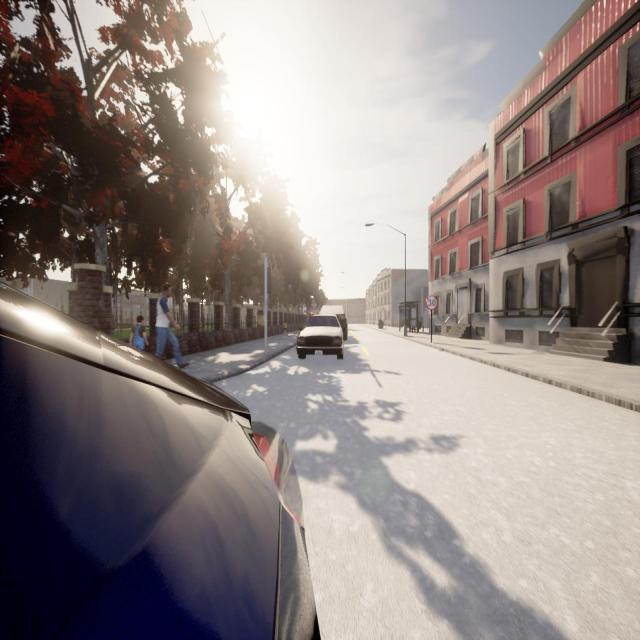Pedestrian: (155, 285, 189, 368), (128, 314, 148, 352), (283, 320, 288, 335)
Traffic_Signs: (426, 296, 437, 310)
Vehicle: (0, 285, 316, 640), (296, 314, 343, 359), (319, 305, 347, 341)
traffic_light: (267, 267, 271, 294)
